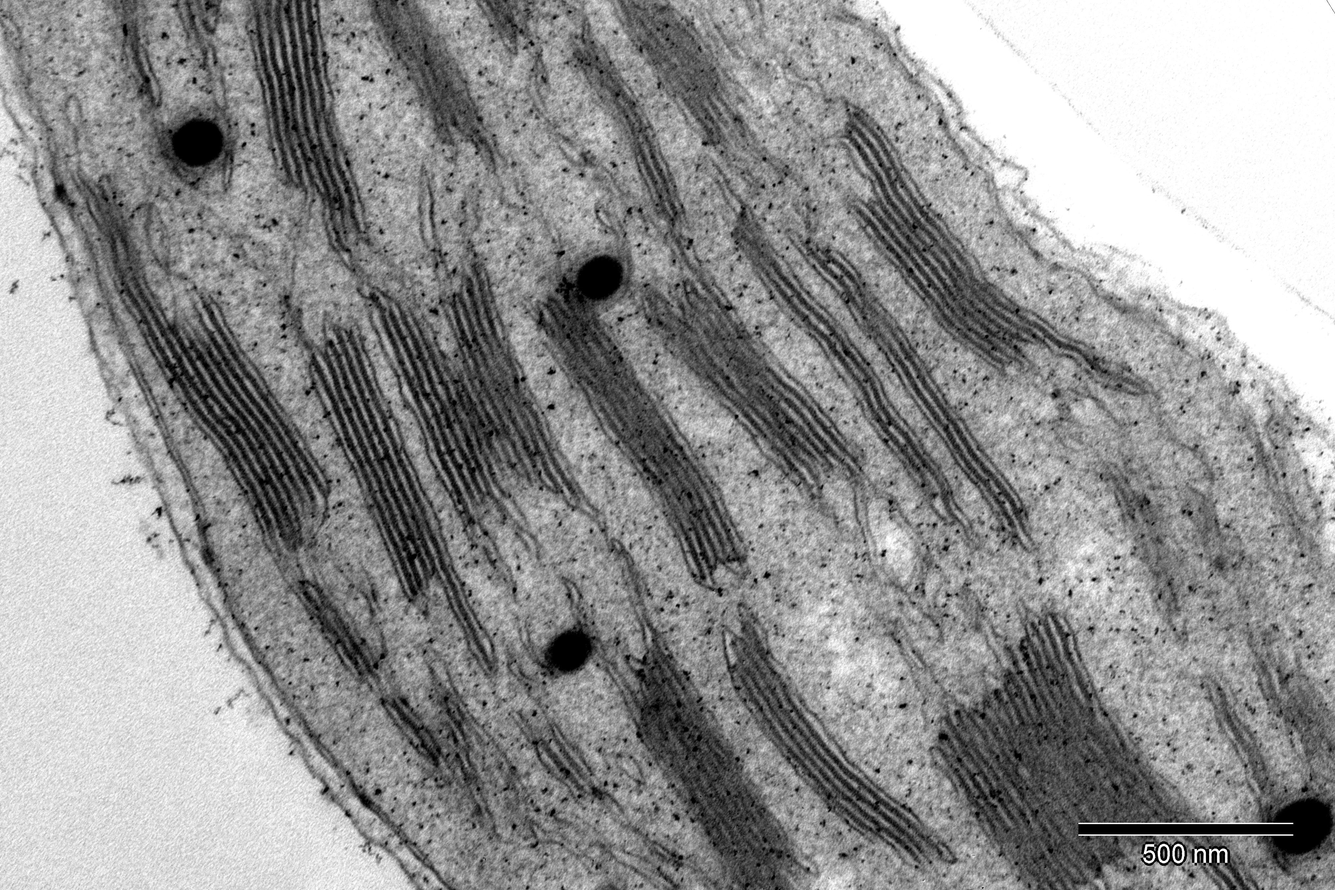granum: (74, 173, 335, 567), (922, 605, 1265, 890), (525, 279, 755, 591), (801, 243, 1034, 538), (725, 200, 951, 497), (830, 95, 1058, 381), (718, 616, 961, 874), (628, 260, 872, 500), (365, 260, 580, 521), (619, 632, 823, 890), (301, 323, 462, 604), (237, 0, 369, 216), (607, 0, 767, 168), (565, 30, 688, 225), (1091, 452, 1206, 619), (1241, 617, 1334, 809), (363, 0, 481, 131), (285, 572, 383, 687), (530, 727, 609, 809), (428, 686, 501, 757), (470, 0, 539, 43), (165, 0, 224, 41)
